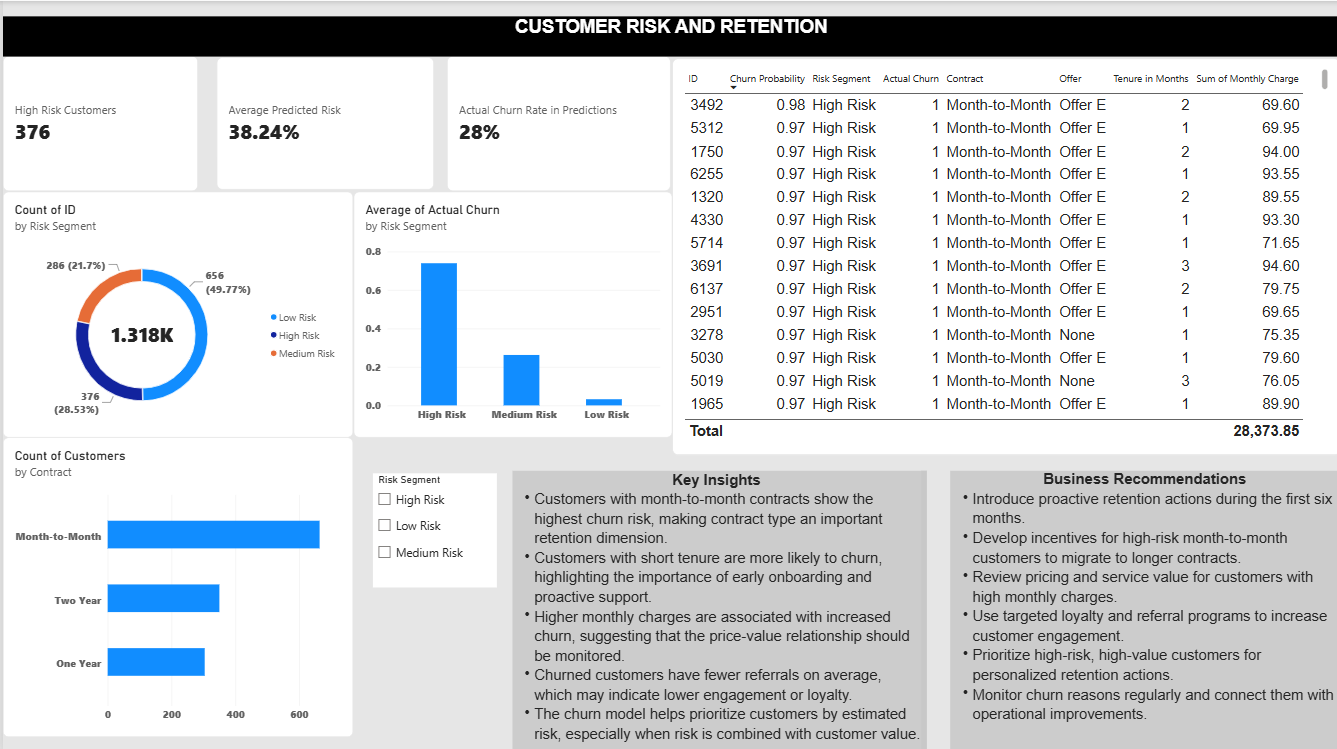

This screenshot's page, from the dashboard's own definition file:
{"tool":"powerbi","page":{"name":"Customer risk & retention","canvas":[1920,1080],"ordinal":1},"visuals":[{"type":"cardVisual","fields":{"Data":["customer_churn_predictions.High Risk Customers"]},"box":[0,79.2,280.4,194.8],"z":0},{"type":"cardVisual","fields":{"Data":["customer_churn_predictions.Average Predicted Risk"]},"box":[307.2,80.9,312.5,190.5],"z":1},{"type":"cardVisual","fields":{"Data":["customer_churn_predictions.Actual Churn Rate in Predictions"]},"box":[637.9,79.2,321.1,194.8],"z":2},{"type":"donutChart","fields":{"Category":["customer_churn_predictions.Risk Segment"],"Y":["CountNonNull(customer_churn_predictions.ID)"]},"box":[0,274,503.1,353.2],"z":3},{"type":"columnChart","fields":{"Category":["customer_churn_predictions.Risk Segment"],"Y":["Avg(customer_churn_predictions.Actual Churn)"]},"box":[503.1,274,458.1,353.2],"z":4},{"type":"barChart","fields":{"Category":["customer_churn_predictions.Contract"],"Y":["CountNonNull(customer_churn_predictions.ID)"]},"box":[0,627.2,503.1,430.3],"z":6},{"type":"tableEx","fields":{"Values":["customer_churn_predictions.ID","customer_churn_predictions.Churn Probability","customer_churn_predictions.Risk Segment","customer_churn_predictions.Actual Churn","customer_churn_predictions.Contract","customer_churn_predictions.Offer","customer_churn_predictions.Tenure in Months","Sum(customer_churn_predictions.Monthly Charge)"]},"box":[961.2,83.5,959,569.4],"z":7},{"type":"textbox","box":[0,21.4,1920.2,57.8],"z":8},{"type":"textbox","box":[732.1,674.3,595.1,406.7],"z":9},{"type":"textbox","box":[1361.1,675.1,559.2,406.5],"z":10},{"type":"slicer","fields":{"Values":["customer_churn_predictions.Risk Segment"]},"box":[531.6,678.7,178.4,163.7],"z":11}]}

Visuals, with their boxes in screenshot pixels (x1, y1, x2, y2), scaled from the page's 1920x1080 canvas onto the 1337x749 screenshot:
cardVisual - customer_churn_predictions.High Risk Customers: region(0, 55, 195, 190)
cardVisual - customer_churn_predictions.Average Predicted Risk: region(214, 56, 432, 188)
cardVisual - customer_churn_predictions.Actual Churn Rate in Predictions: region(444, 55, 668, 190)
donutChart - customer_churn_predictions.Risk Segment x CountNonNull(customer_churn_predictions.ID): region(0, 190, 350, 435)
columnChart - customer_churn_predictions.Risk Segment x Avg(customer_churn_predictions.Actual Churn): region(350, 190, 669, 435)
barChart - customer_churn_predictions.Contract x CountNonNull(customer_churn_predictions.ID): region(0, 435, 350, 733)
tableEx - customer_churn_predictions.ID x customer_churn_predictions.Churn Probability: region(669, 58, 1336, 453)
textbox: region(0, 15, 1336, 55)
textbox: region(510, 468, 924, 748)
textbox: region(948, 468, 1336, 748)
slicer - customer_churn_predictions.Risk Segment: region(370, 471, 494, 584)
